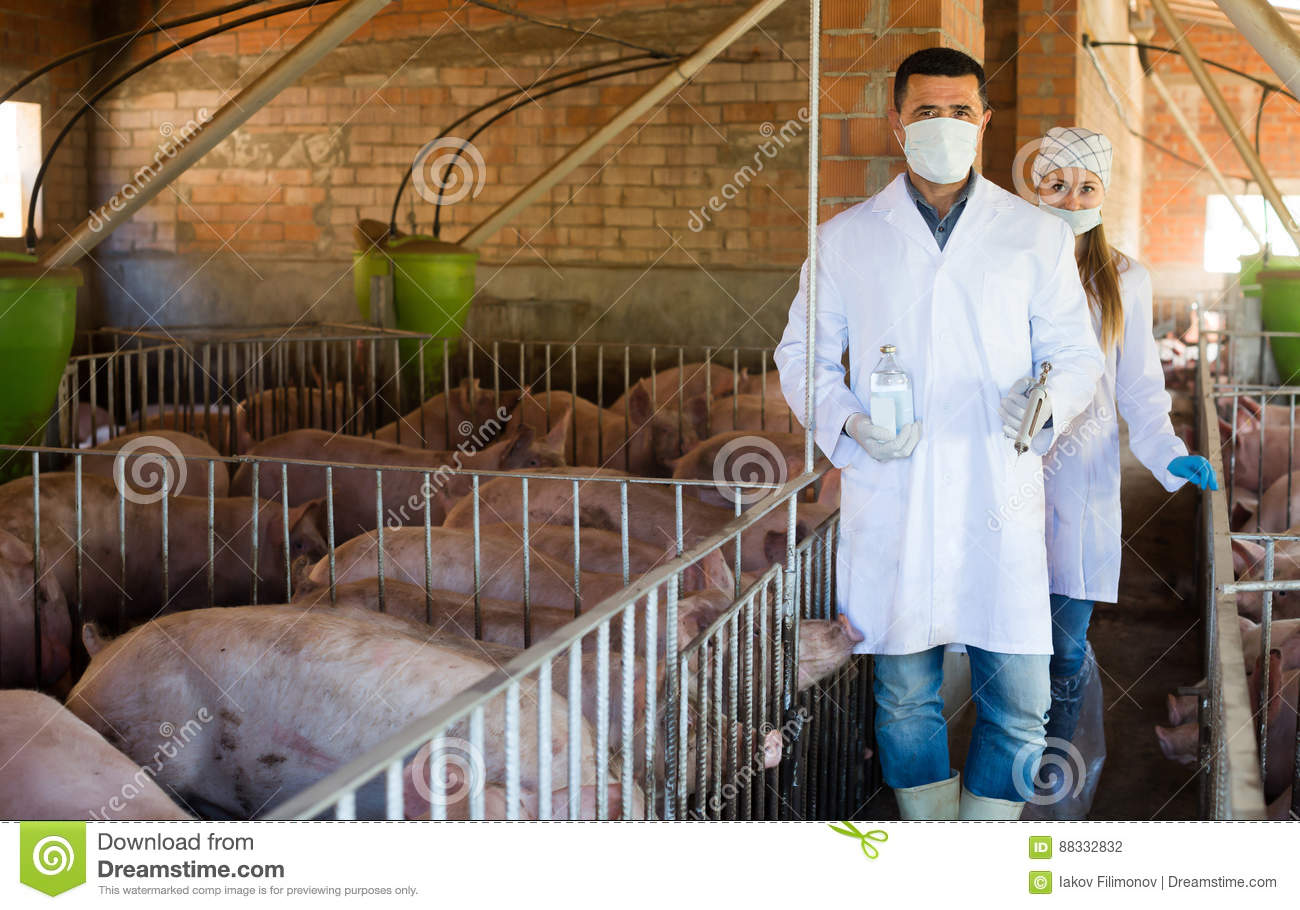mask: (899, 123, 981, 186)
